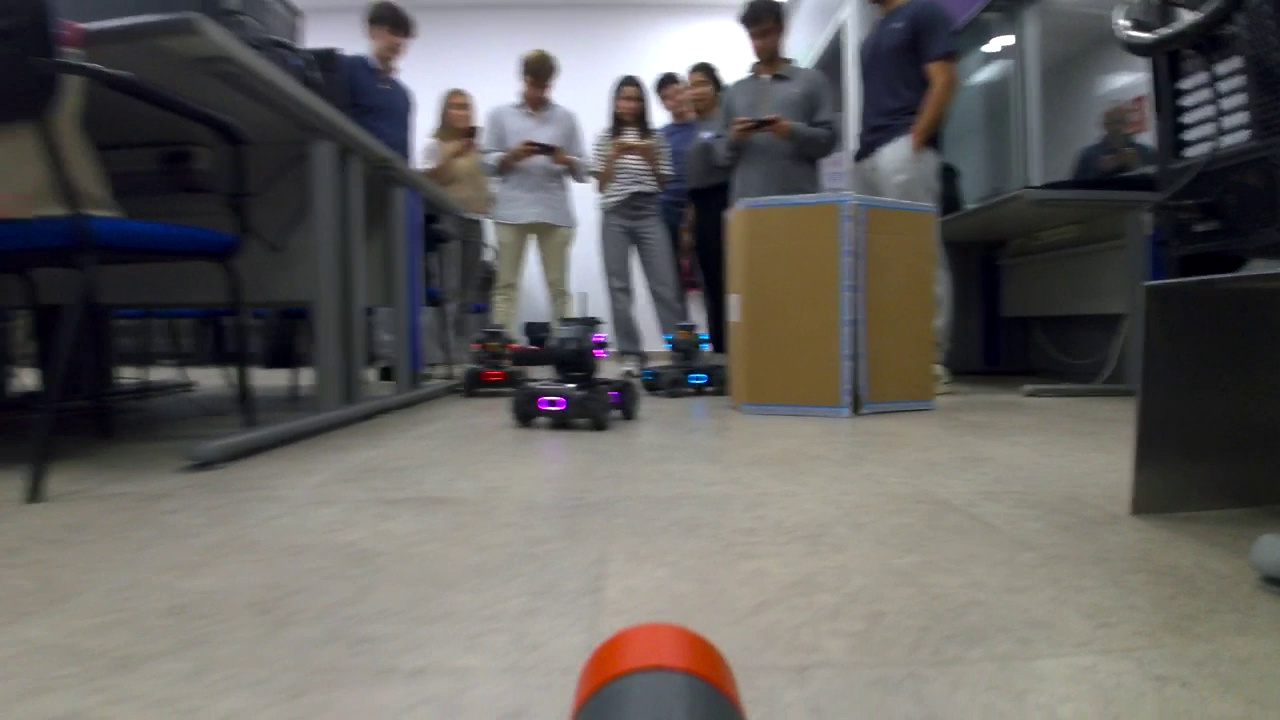robot: (510, 313, 636, 430), (640, 319, 730, 398), (459, 325, 532, 397)
